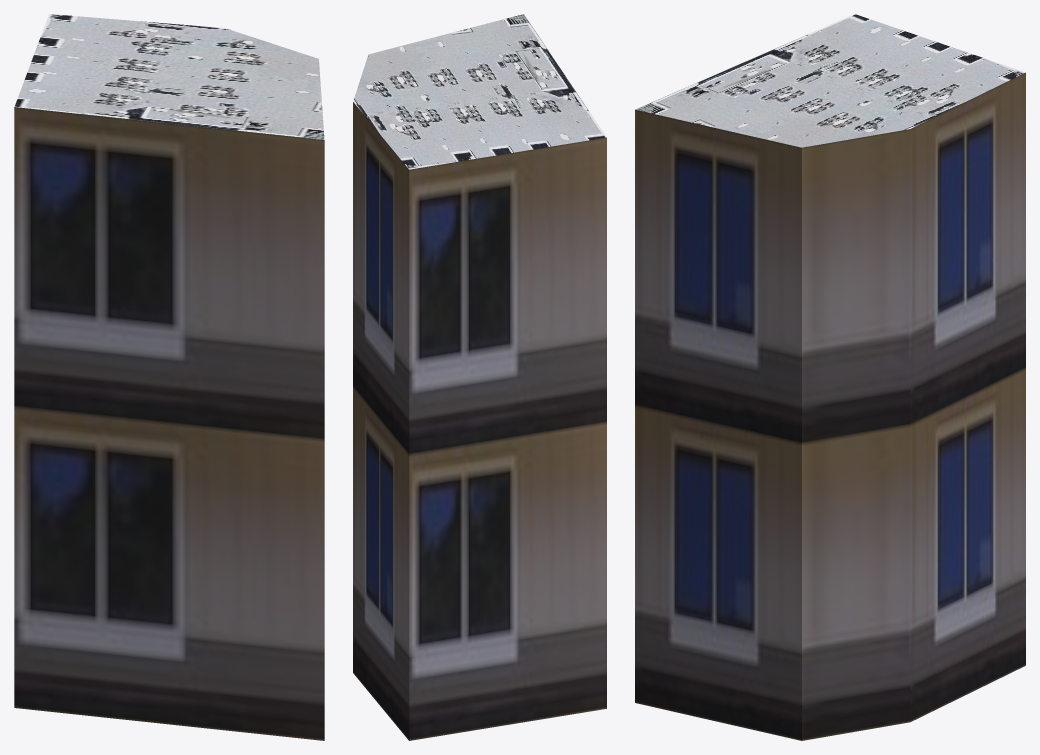
Rendered from ResTex__818.fbx.
3 views of the same model, side by side, from view 1: azimuth 30°, elevation 25°; view 2: azimuth 150°, elevation 25°; view 3: azimuth 270°, elevation 25° (orthographic). The views are drawn at different scales.
Parts seen in each view (by area): view 1: CityEngineMaterial_5_m, CityEngineMaterial_m; view 2: CityEngineMaterial_5_m, CityEngineMaterial_m; view 3: CityEngineMaterial_5_m, CityEngineMaterial_m.
Boxes of the visible parts, x1=… form: CityEngineMaterial_5_m: x1=14, y1=107, x2=324, y2=740; CityEngineMaterial_m: x1=14, y1=14, x2=324, y2=139; CityEngineMaterial_5_m: x1=353, y1=102, x2=606, y2=740; CityEngineMaterial_m: x1=353, y1=14, x2=606, y2=169; CityEngineMaterial_5_m: x1=635, y1=72, x2=1025, y2=740; CityEngineMaterial_m: x1=635, y1=14, x2=1025, y2=147.
Size of the model in its own units: 2.9 by 6 by 3.58.
2 materials, 2 textured.
